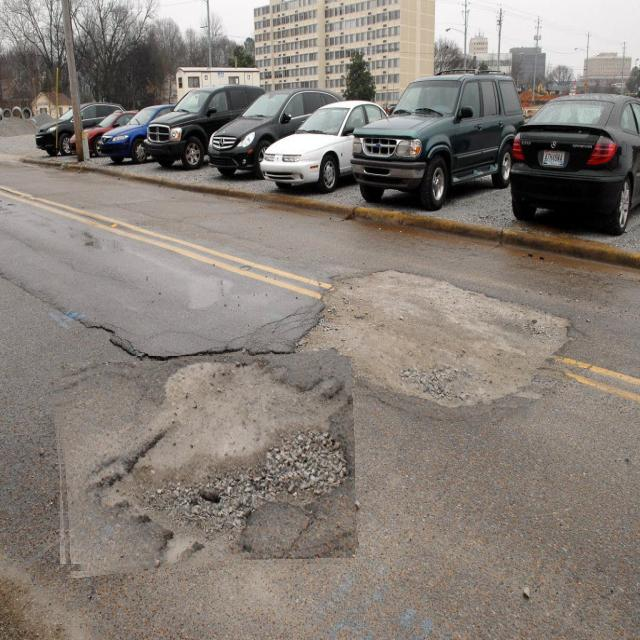Pothole: (55, 356, 355, 571), (357, 325, 531, 423)
